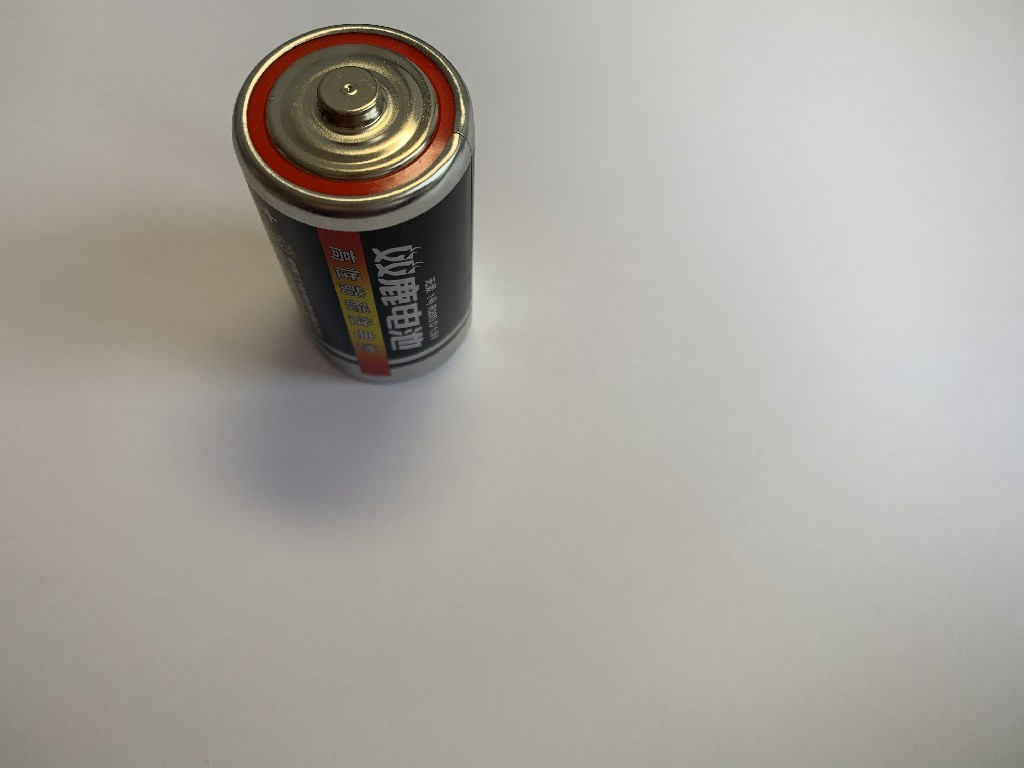charge: (222, 20, 479, 387)
